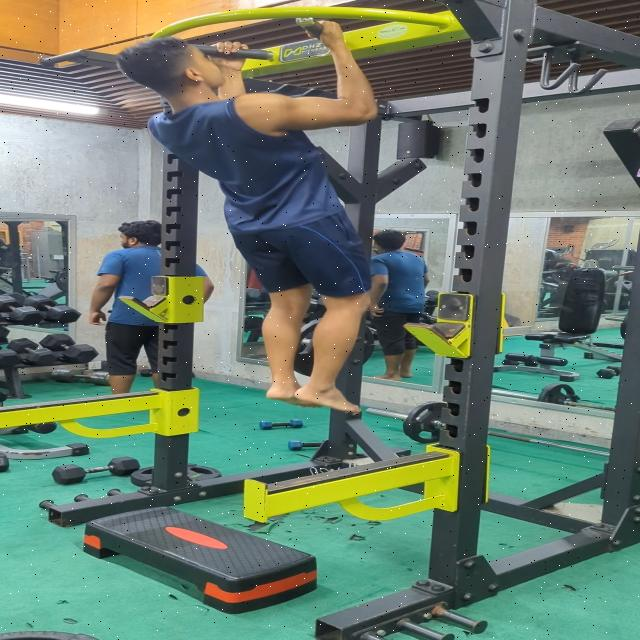Normal_PullUps: (119, 8, 380, 415)
